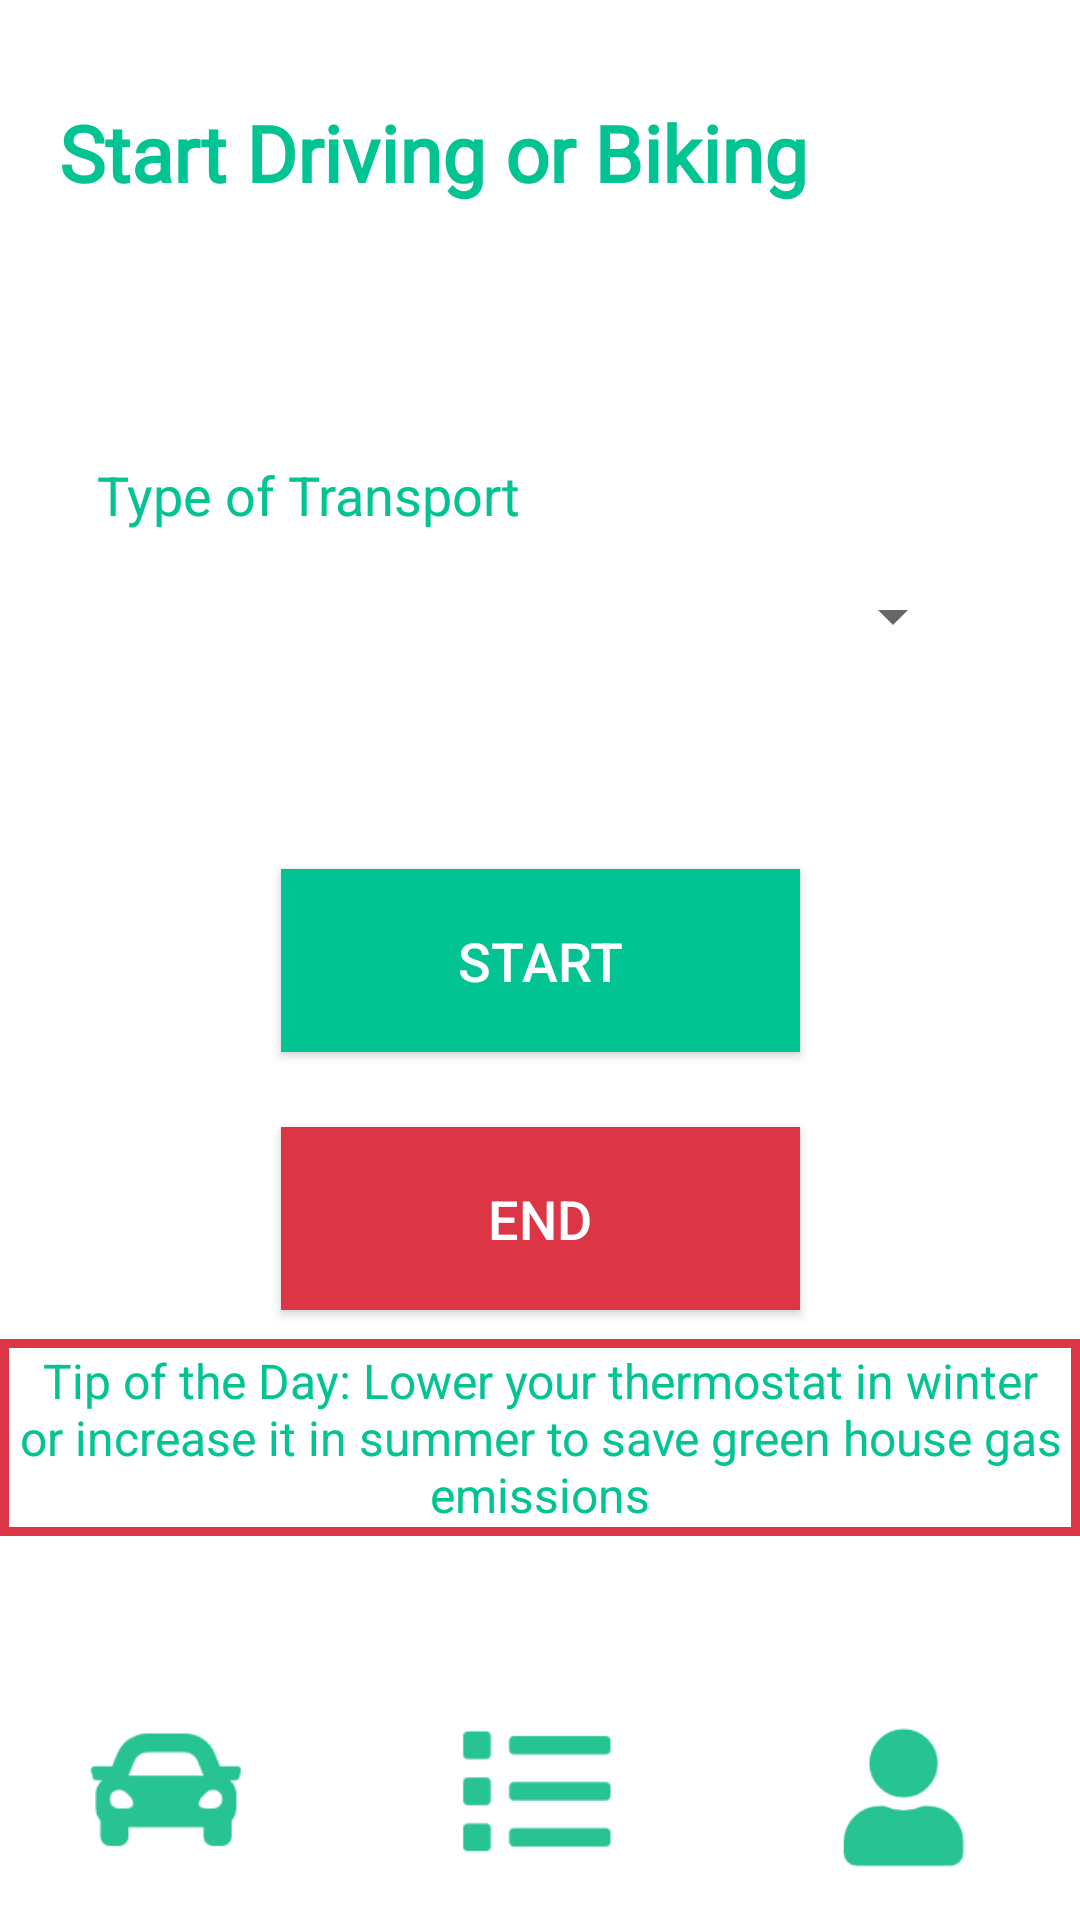

Icons on this 1080px×1920px Android screen, each with the point to tap as (x,y):
car: (166,1790)
list: (537,1791)
user: (903,1797)
